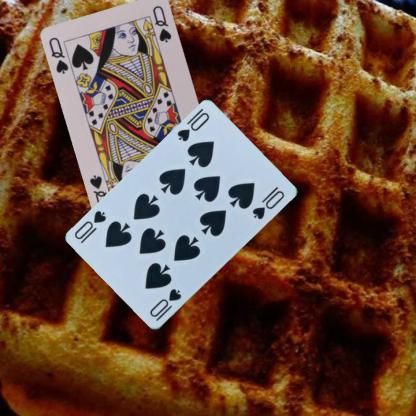10s: (147, 286, 183, 323), (174, 110, 211, 143)
Qs: (46, 35, 71, 76)
